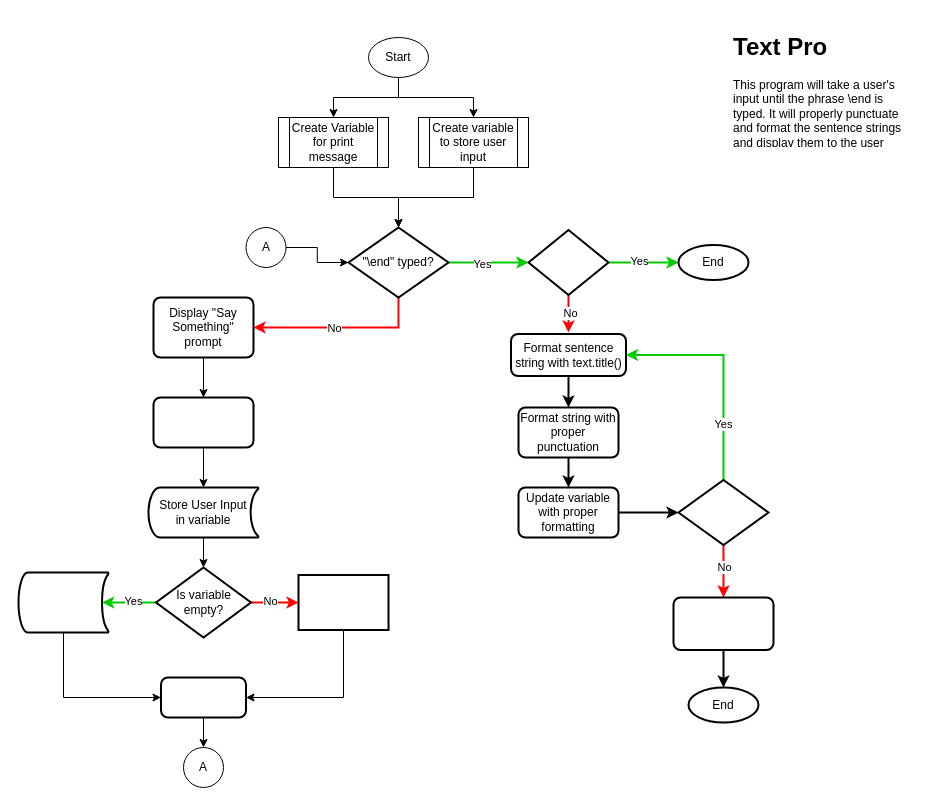
This 935x805 diagram has some shape labels left out. The shapes that lost their labels are listed below. From the top down, each one's centre as x and y in pixels, then its label:
pixel 568 262: Variable Empty?
pixel 203 422: Accept User Input from prompt
pixel 723 512: "+" sign in string?
pixel 63 602: Store initial string into variable
pixel 343 602: Concatenate data into variable
pixel 723 623: Print variable value to the console
pixel 203 697: Update variable value
